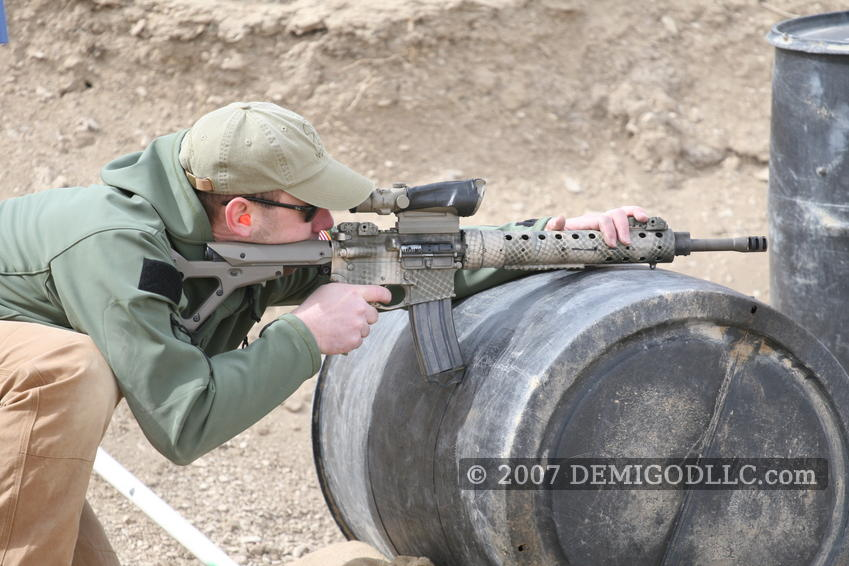Rifle: (149, 177, 778, 383)
